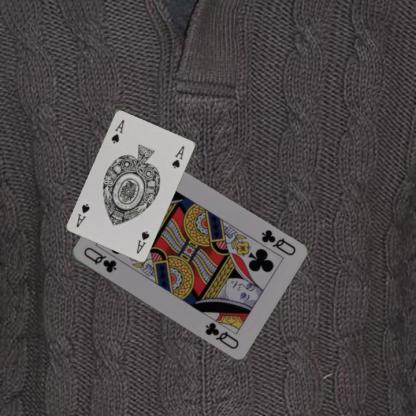As: (108, 117, 126, 144), (134, 228, 151, 255)
Qc: (258, 227, 297, 257), (80, 244, 118, 274)
